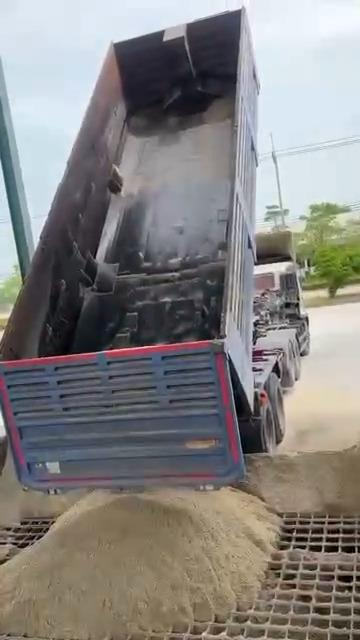sand: (0, 489, 278, 639), (239, 445, 359, 515), (0, 453, 84, 525), (283, 549, 354, 563)
